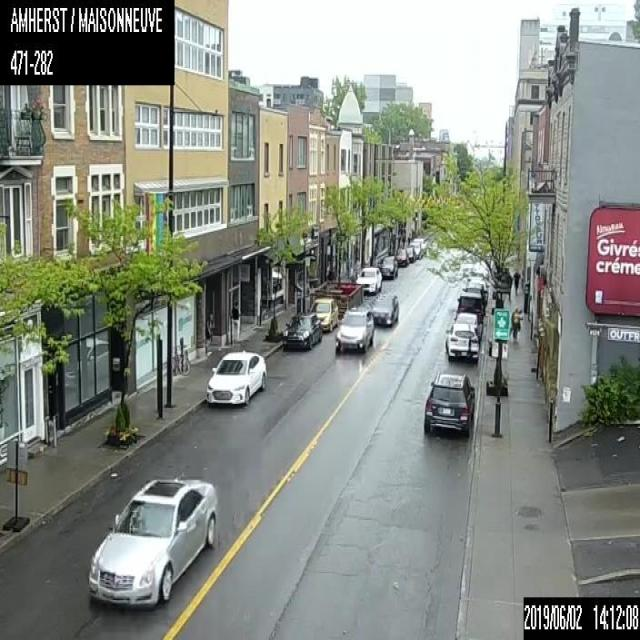pedestrian: (509, 303, 522, 341), (229, 295, 239, 340), (203, 311, 212, 352), (512, 269, 520, 292)
vehicle: (86, 474, 218, 606), (203, 347, 268, 405), (422, 369, 474, 439), (334, 307, 374, 354), (281, 309, 321, 351), (445, 322, 480, 362), (306, 296, 338, 331), (368, 291, 398, 326), (456, 292, 484, 322), (355, 266, 381, 294), (453, 312, 481, 336), (462, 282, 486, 306), (377, 254, 398, 277), (468, 279, 488, 302), (394, 248, 408, 265)
